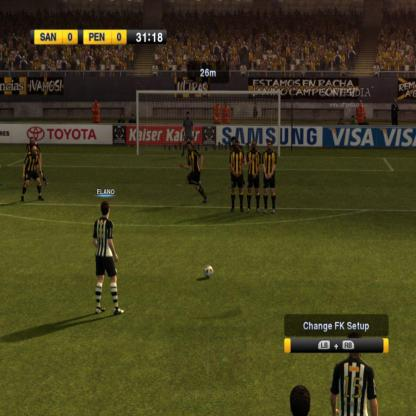face: (252, 142, 256, 150), (236, 144, 240, 151), (268, 143, 272, 150), (34, 148, 38, 155), (188, 145, 191, 151), (233, 141, 236, 146), (31, 140, 34, 145), (187, 115, 190, 119)
